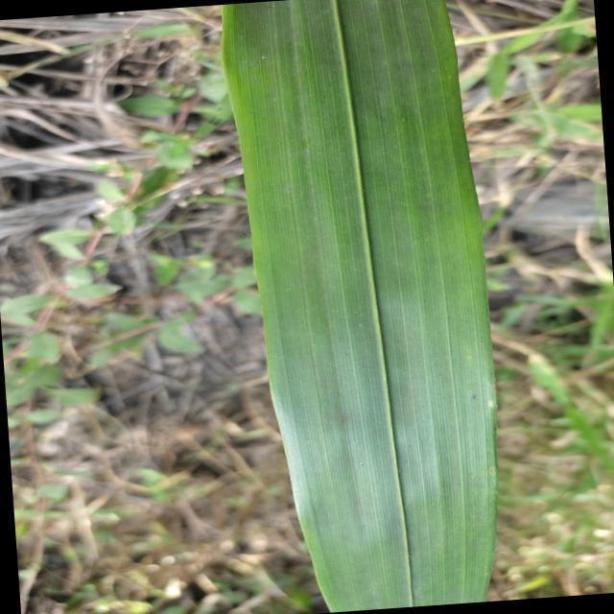Healthy: (221, 5, 497, 609)
